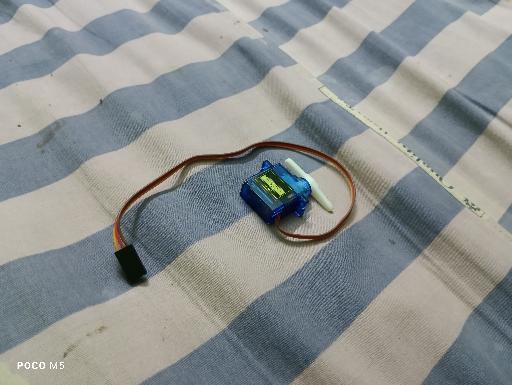Motor: (239, 157, 334, 227)
